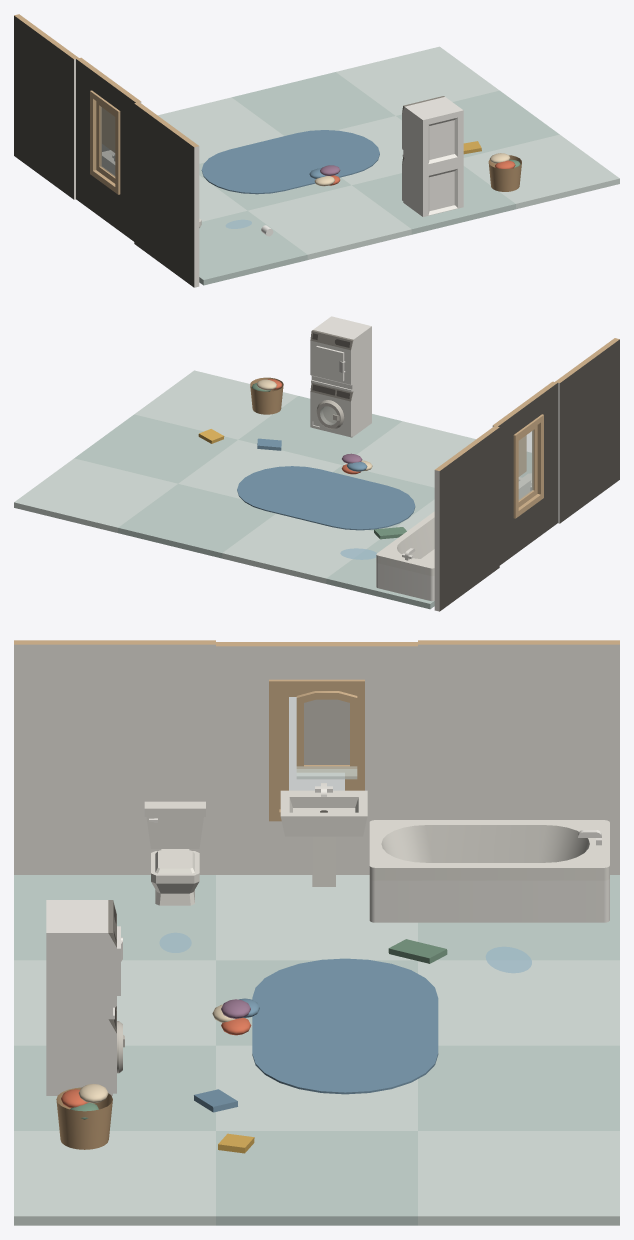
File: room-bathroom.glb
The picture shows the model from 3 angles, top to bottom: view 1: azimuth 30°, elevation 25°; view 2: azimuth 150°, elevation 25°; view 3: azimuth 270°, elevation 25°; orthographic projection. The views are drawn at different scales.
Visible parts, largest first — view 1: floorFull(Clone) (×11), Mesh_wall_2 (×2), Mesh_rugRounded_1, Mesh_washerDryerStacked_1, Mesh_wallWindow_1, Mesh_wallWindow, Mesh_rugRounded, Mesh_window, Mesh_wall_1, furniture, Mesh_window_1, Mesh_bathroomMirror (+1 smaller); view 2: floorFull(Clone) (×11), Mesh_wall_2 (×2), Mesh_rugRounded_1, Mesh_wallWindow_1, Mesh_washerDryerStacked_1, Mesh_bathtub, Mesh_wallWindow, Mesh_bathtub_1, Mesh_rugRounded, Mesh_window, dryerDoor, furniture (+6 smaller); view 3: floorFull(Clone) (×12), Mesh_wall_1 (×2), Mesh_wallWindow_2, Mesh_rugRounded_1, Mesh_bathtub, Mesh_washerDryerStacked_1, Mesh_bathtub_1, Mesh_bathroomSinkSquare, Mesh_wallWindow, Mesh_toiletSquare, Mesh_rugRounded, Mesh_bathroomMirror_1 (+12 smaller).
Part boxes in pixels (x1=…): floorFull(Clone) (×11): x1=158, y1=46, x2=619, y2=285; Mesh_wall_2 (×2): x1=14, y1=15, x2=194, y2=287; Mesh_rugRounded_1: x1=201, y1=130, x2=379, y2=194; Mesh_washerDryerStacked_1: x1=402, y1=97, x2=463, y2=216; Mesh_wallWindow_1: x1=76, y1=59, x2=135, y2=241; Mesh_wallWindow: x1=76, y1=57, x2=140, y2=194; Mesh_rugRounded: x1=214, y1=135, x2=367, y2=187; Mesh_window: x1=100, y1=106, x2=115, y2=176; Mesh_wall_1: x1=194, y1=146, x2=199, y2=287; furniture: x1=488, y1=155, x2=521, y2=191; Mesh_window_1: x1=96, y1=101, x2=115, y2=183; Mesh_bathroomMirror: x1=102, y1=107, x2=115, y2=152; floorFull(Clone) (×11): x1=14, y1=370, x2=475, y2=609; Mesh_wall_2 (×2): x1=439, y1=339, x2=619, y2=611; Mesh_rugRounded_1: x1=237, y1=466, x2=415, y2=530; Mesh_wallWindow_1: x1=498, y1=383, x2=557, y2=565; Mesh_washerDryerStacked_1: x1=310, y1=316, x2=371, y2=437; Mesh_bathtub: x1=376, y1=511, x2=434, y2=576; Mesh_wallWindow: x1=493, y1=381, x2=557, y2=518; Mesh_bathtub_1: x1=376, y1=548, x2=434, y2=601; Mesh_rugRounded: x1=249, y1=471, x2=402, y2=523; Mesh_window: x1=518, y1=430, x2=533, y2=500; dryerDoor: x1=316, y1=346, x2=345, y2=381; furniture: x1=250, y1=377, x2=283, y2=414; floorFull(Clone) (×12): x1=14, y1=875, x2=619, y2=1225; Mesh_wall_1 (×2): x1=14, y1=644, x2=619, y2=874; Mesh_wallWindow_2: x1=216, y1=646, x2=417, y2=874; Mesh_rugRounded_1: x1=252, y1=958, x2=438, y2=1094; Mesh_bathtub: x1=369, y1=820, x2=609, y2=880; Mesh_washerDryerStacked_1: x1=46, y1=900, x2=116, y2=1095; Mesh_bathtub_1: x1=369, y1=830, x2=609, y2=922; Mesh_bathroomSinkSquare: x1=280, y1=790, x2=367, y2=886; Mesh_wallWindow: x1=216, y1=642, x2=417, y2=821; Mesh_toiletSquare: x1=144, y1=801, x2=205, y2=905; Mesh_rugRounded: x1=272, y1=967, x2=417, y2=1083; Mesh_bathroomMirror_1: x1=304, y1=699, x2=349, y2=764.
Bounding box in the file's own units: 4.09 × 1.29 × 3.
